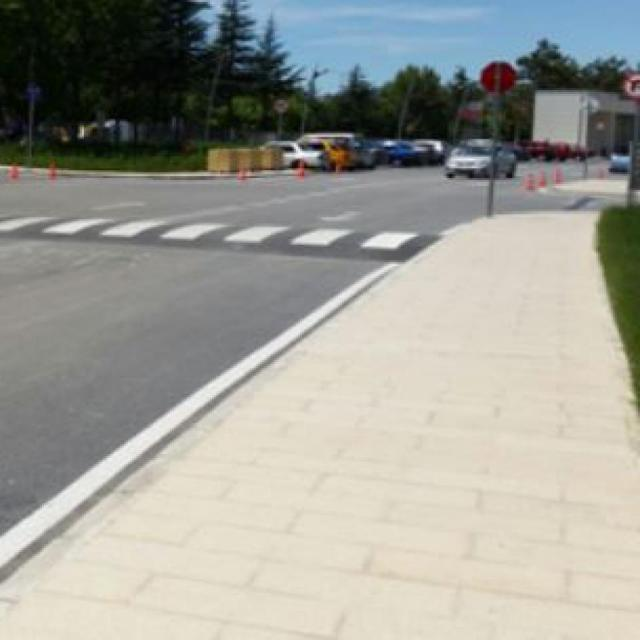speedbreaker: (0, 212, 444, 264)
